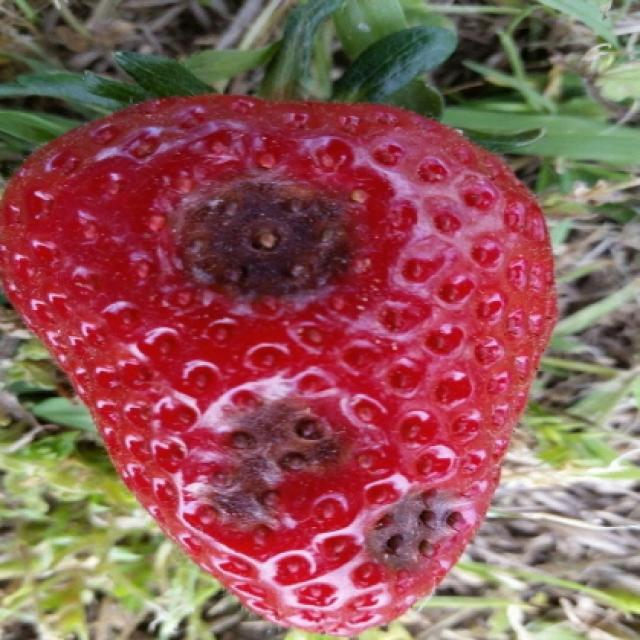Anthracnose Fruit Rot: (153, 163, 484, 588)
